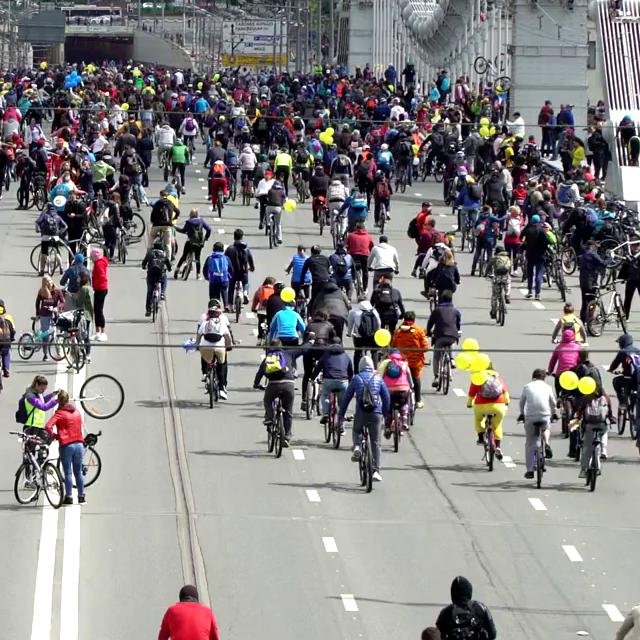bicycle: (8, 430, 63, 509), (182, 338, 232, 408), (343, 411, 385, 493), (253, 383, 297, 458), (569, 419, 613, 492), (517, 414, 556, 489), (54, 429, 102, 489), (585, 278, 628, 337), (17, 311, 65, 361), (382, 388, 415, 452), (29, 232, 74, 276), (318, 386, 346, 449), (541, 247, 570, 302), (430, 339, 456, 395), (486, 273, 511, 326), (478, 413, 500, 471), (453, 206, 478, 253), (146, 272, 167, 323), (25, 171, 48, 210), (263, 205, 283, 249), (329, 210, 348, 250), (350, 258, 367, 301), (231, 278, 247, 323), (313, 196, 330, 236), (292, 169, 308, 203), (373, 198, 388, 234)
